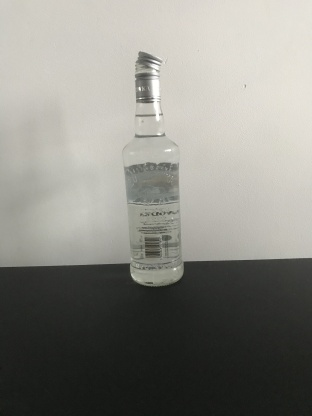nakretka: (133, 48, 163, 103)
